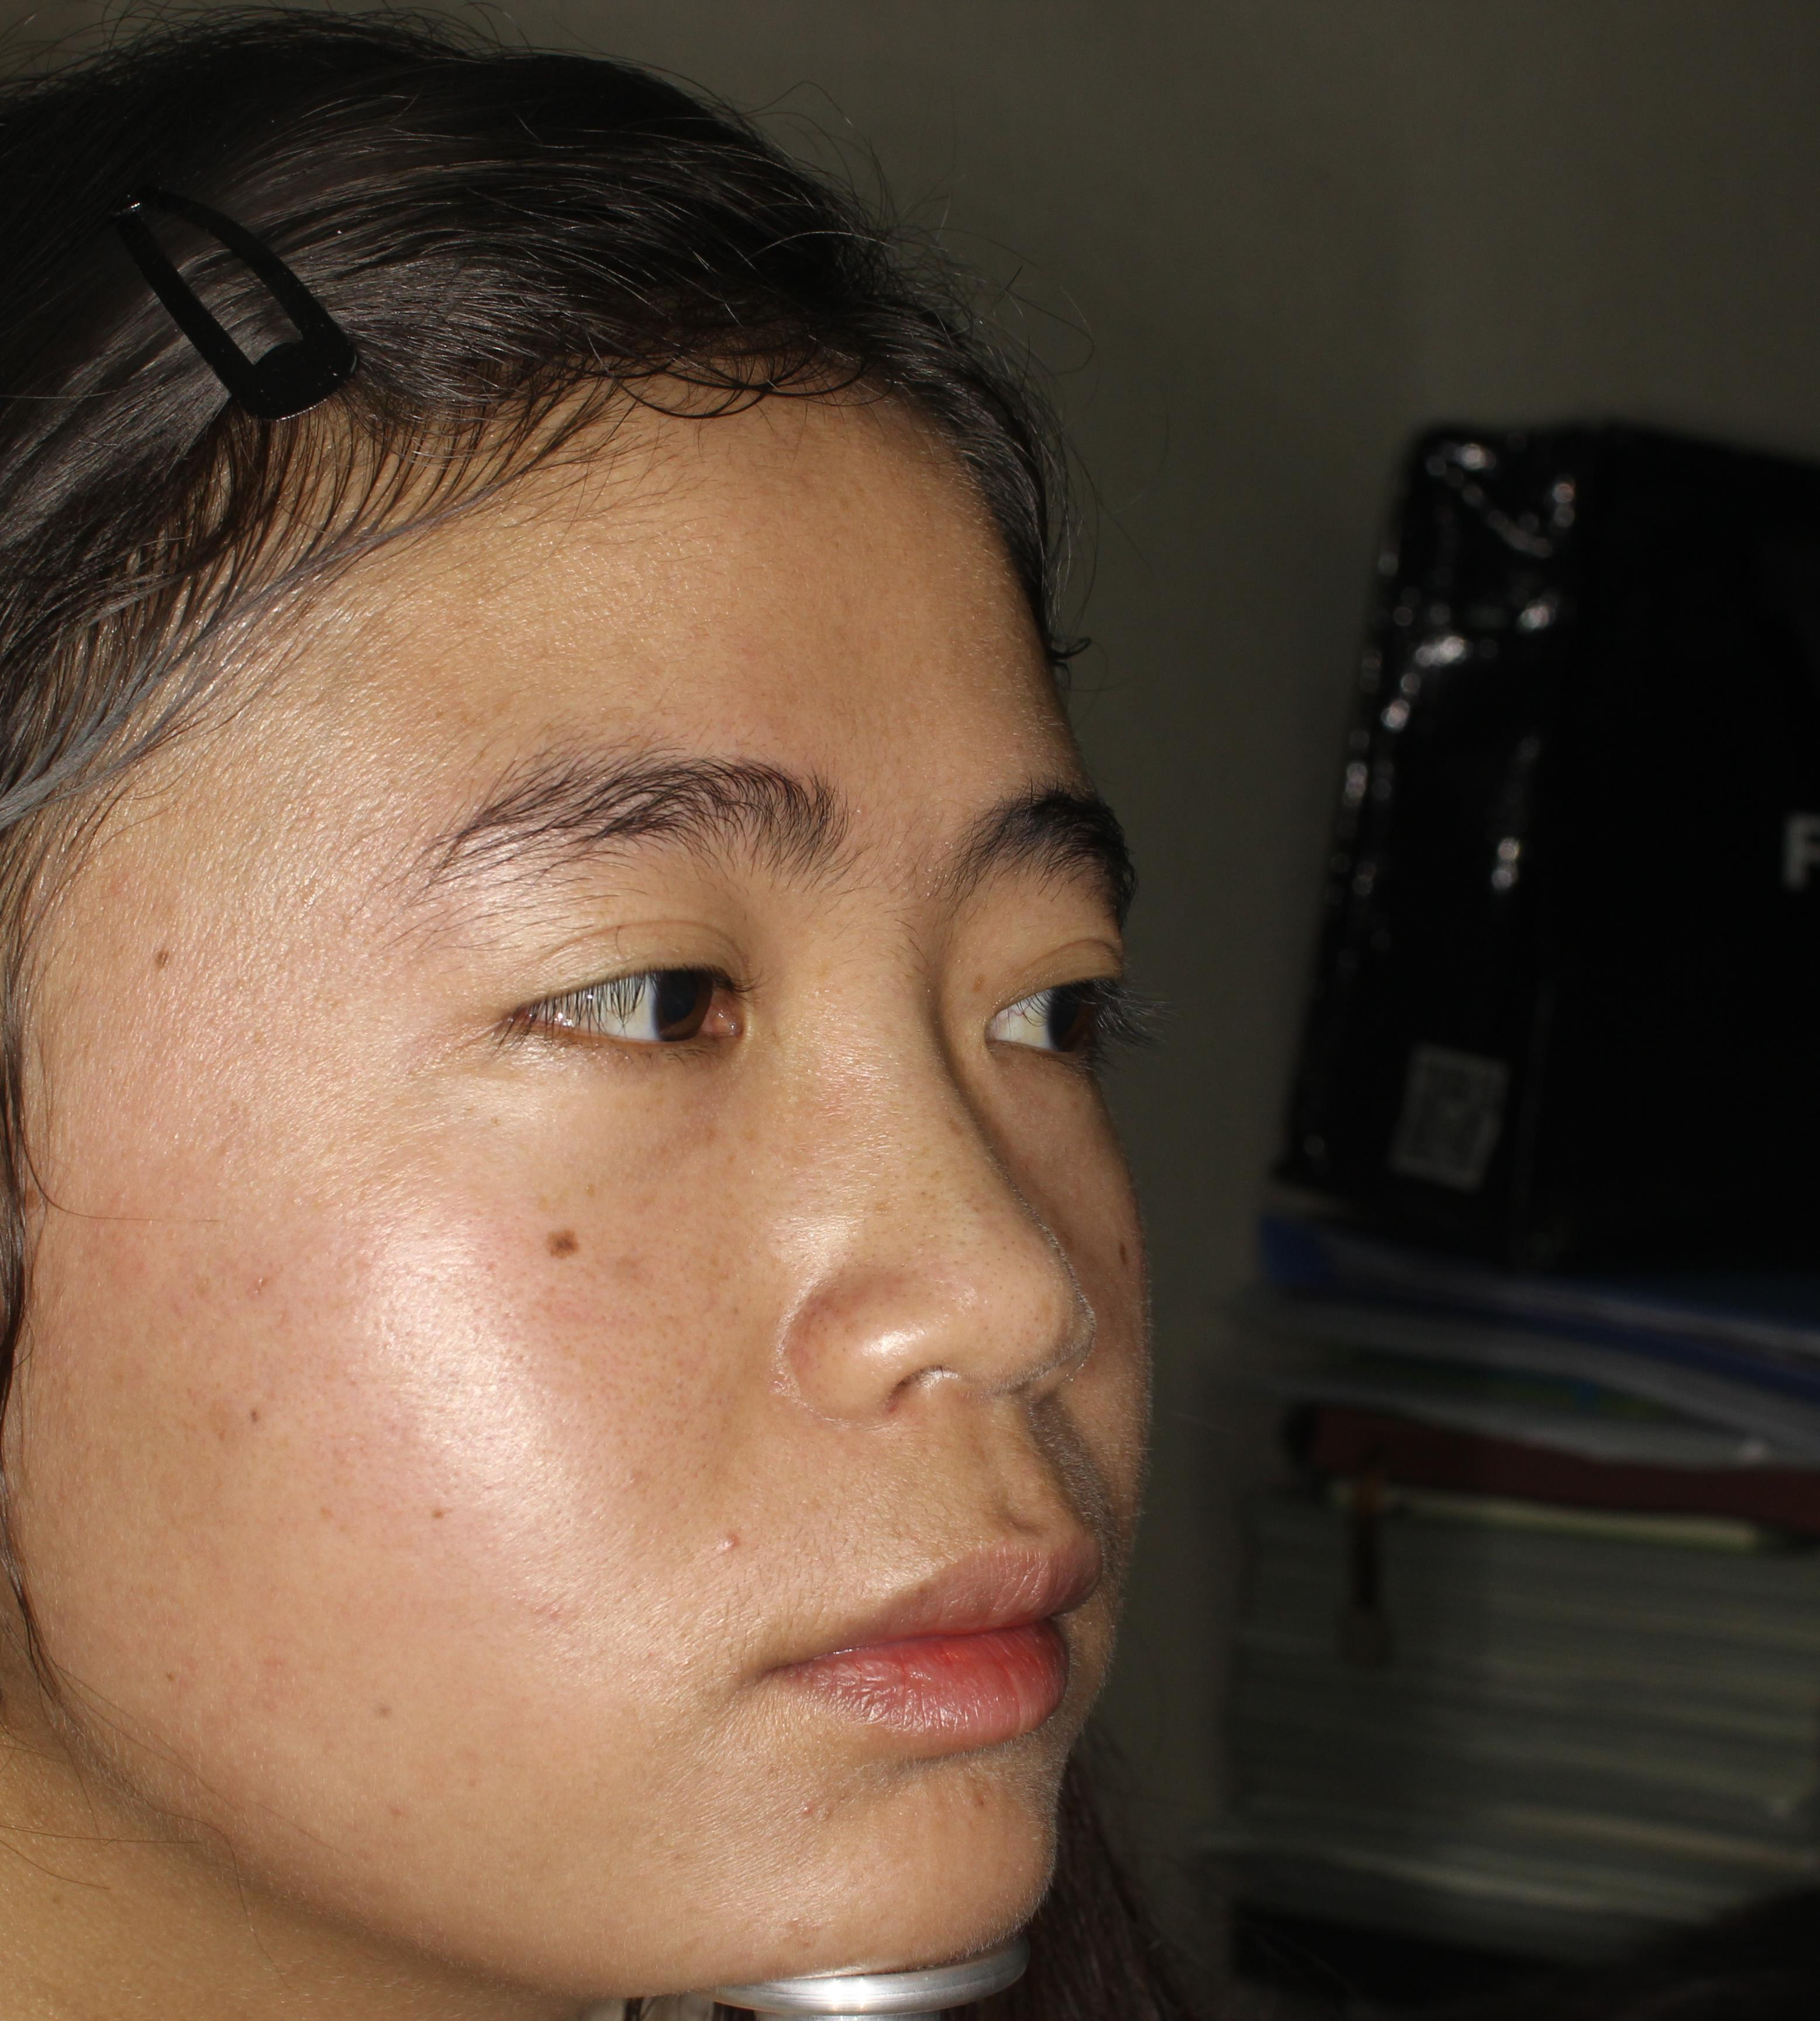fore: (791, 1912, 840, 1956)
